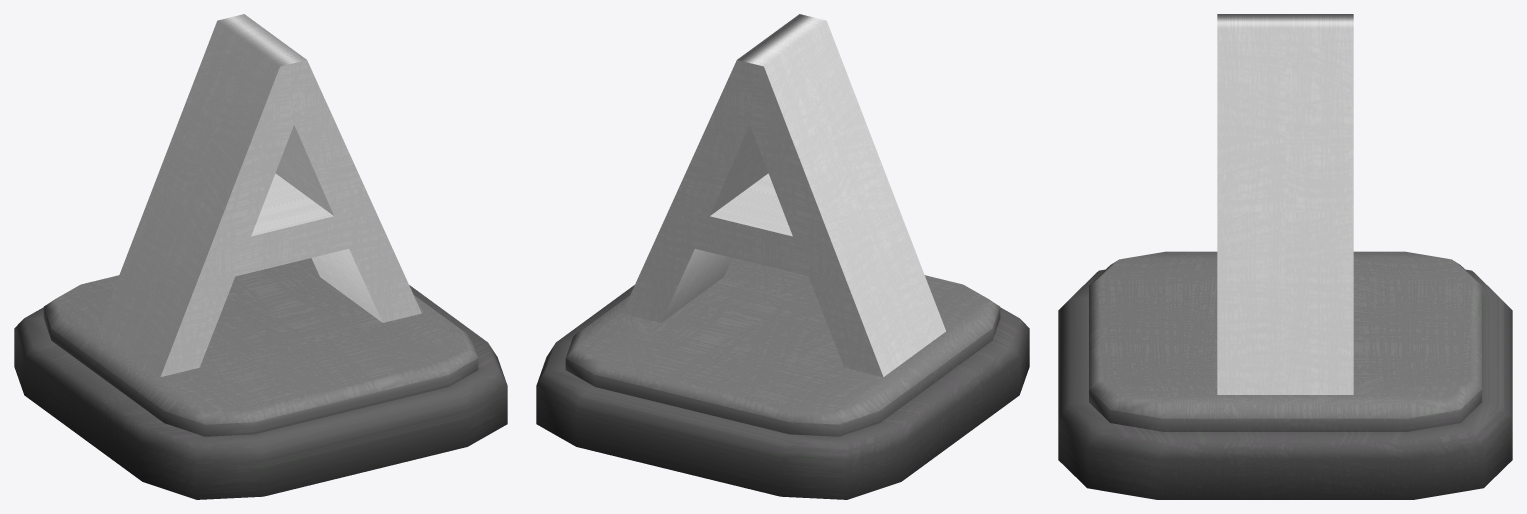
The model's file is Statue Letter A Hand.fbx.
3 renders of one model, left to right at view 1: azimuth 30°, elevation 25°; view 2: azimuth 150°, elevation 25°; view 3: azimuth 270°, elevation 25°, orthographic. The views are drawn at different scales.
Visible parts, largest first — view 1: StatueBase (1), Letter; view 2: StatueBase (1), Letter; view 3: StatueBase (1), Letter.
Part boxes in pixels (x1=…): StatueBase (1): x1=14, y1=258, x2=507, y2=499; Letter: x1=98, y1=14, x2=421, y2=377; StatueBase (1): x1=536, y1=258, x2=1029, y2=499; Letter: x1=622, y1=14, x2=945, y2=377; StatueBase (1): x1=1058, y1=251, x2=1512, y2=499; Letter: x1=1217, y1=14, x2=1353, y2=394.
Size of the model in its own units: 0.9118 by 0.8697 by 0.9299.
